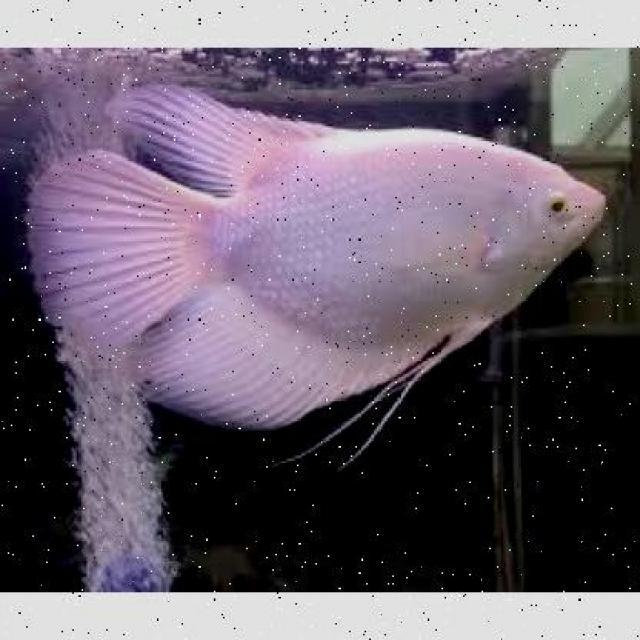gurame: (36, 101, 601, 412)
